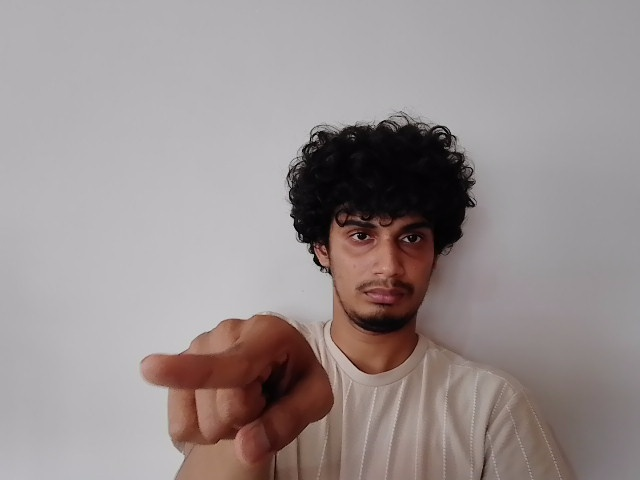you: (132, 313, 340, 449)
